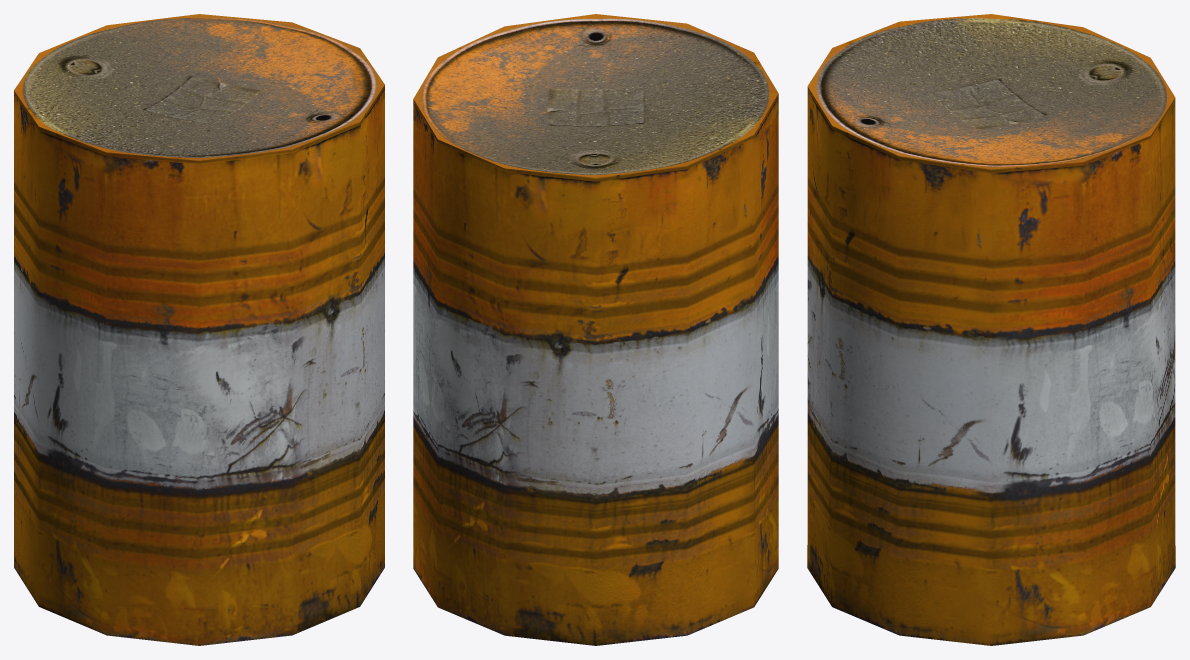
Rendered from barrel1.fbx.
3 renders of one model, left to right at view 1: azimuth 30°, elevation 25°; view 2: azimuth 150°, elevation 25°; view 3: azimuth 270°, elevation 25°, orthographic.
Parts seen in each view (by area): view 1: barrel1; view 2: barrel1; view 3: barrel1.
Boxes of the visible parts, bbox=[...] form: barrel1: bbox=[14, 14, 384, 645]; barrel1: bbox=[413, 14, 778, 645]; barrel1: bbox=[807, 14, 1175, 645].
Bounding box in the file's own units: 70 × 70 × 101.
